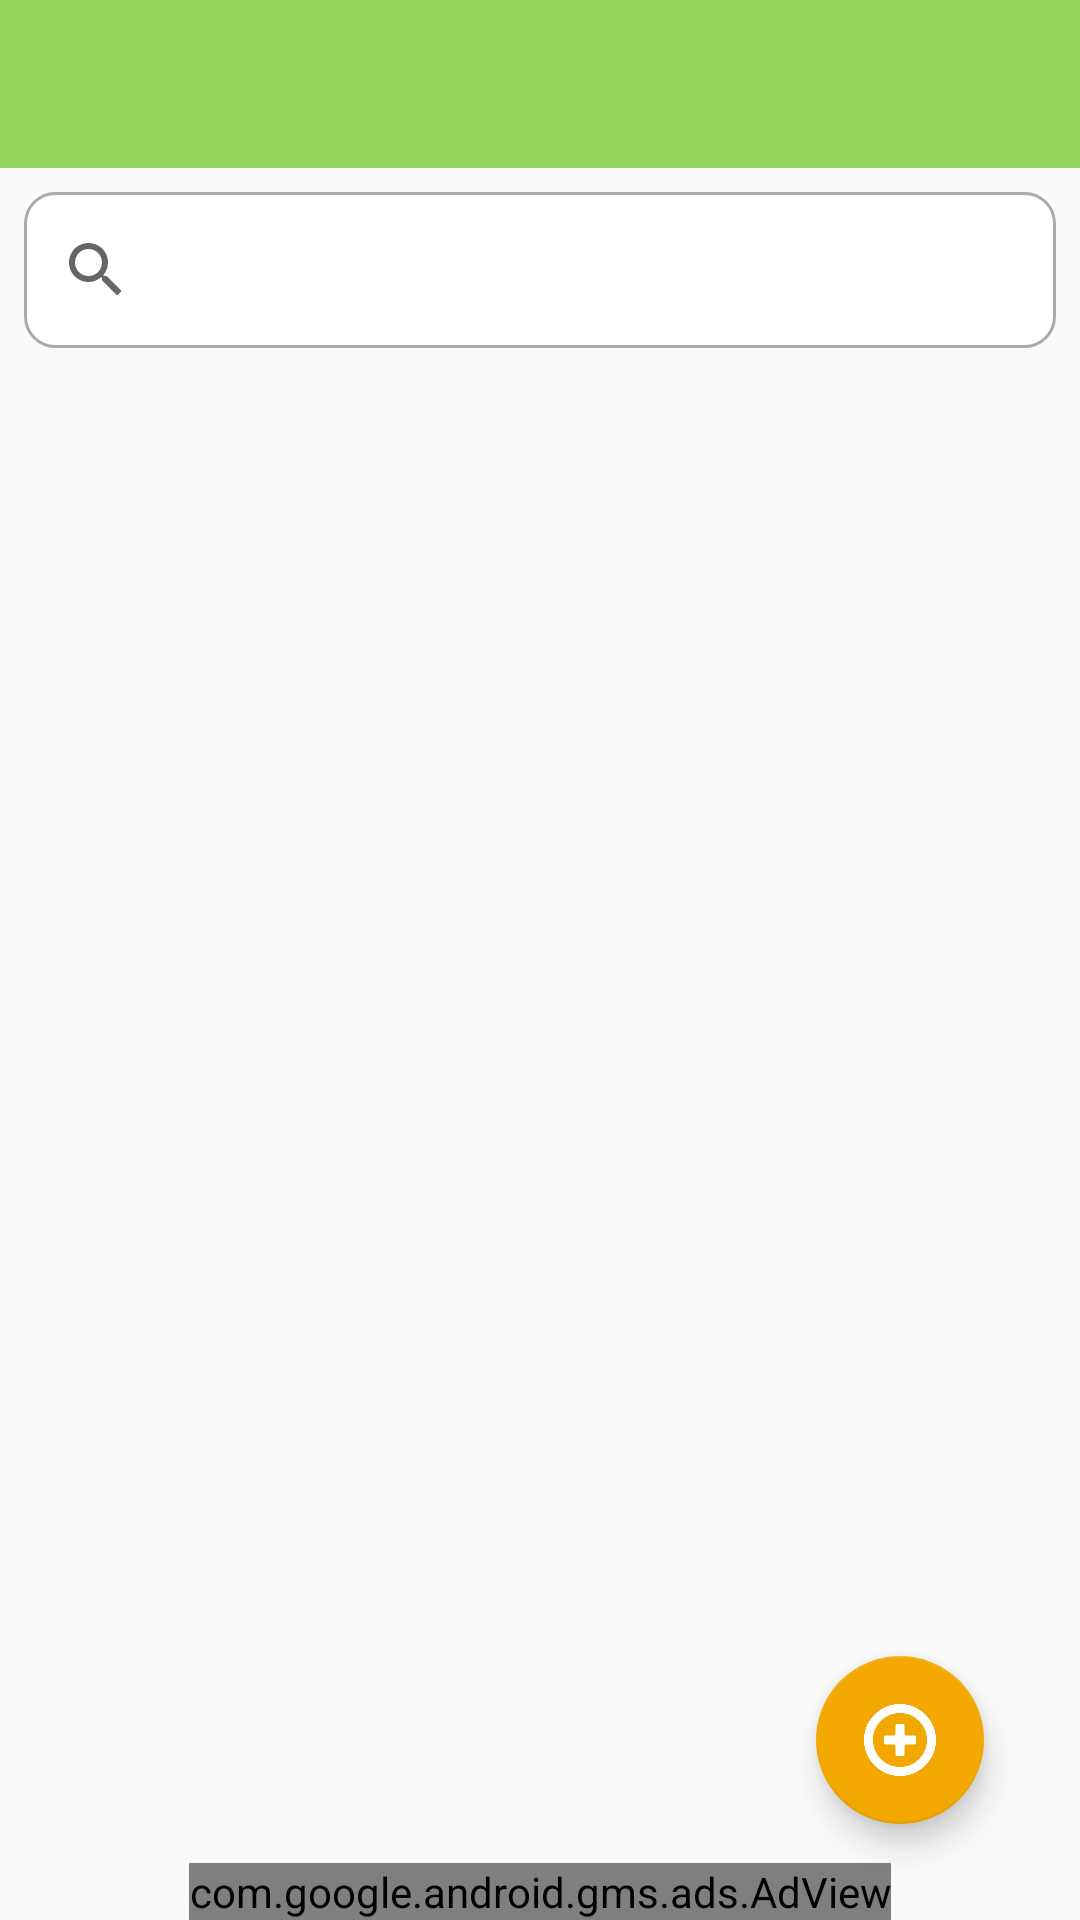

Where to tap for icons on this 1080px x 1920px app screen, as [x,y]:
plus: [900,1740]
